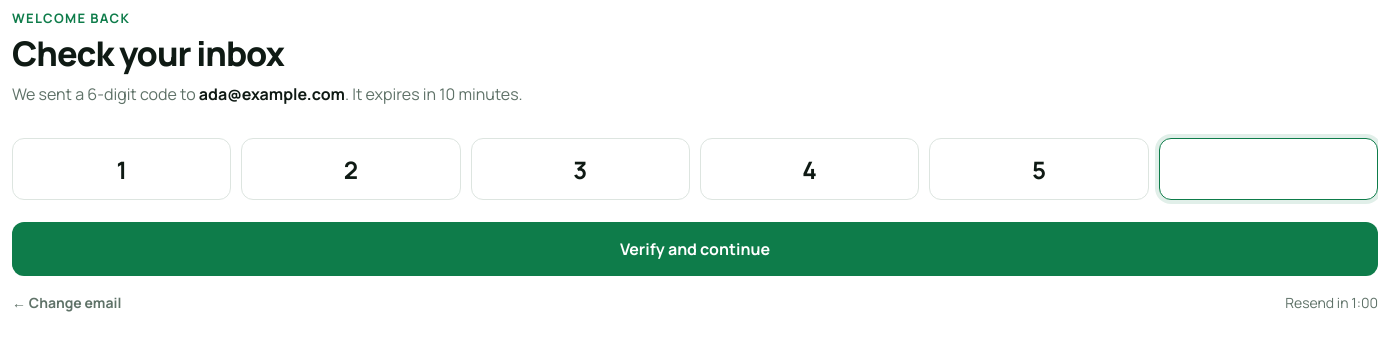
it: CodeForm › requires all six digits before verifying
The image size is (1390, 355).
Click the button "Verify and continue" at point(695, 249), box top-left (12, 222), bottom-right (1378, 276)
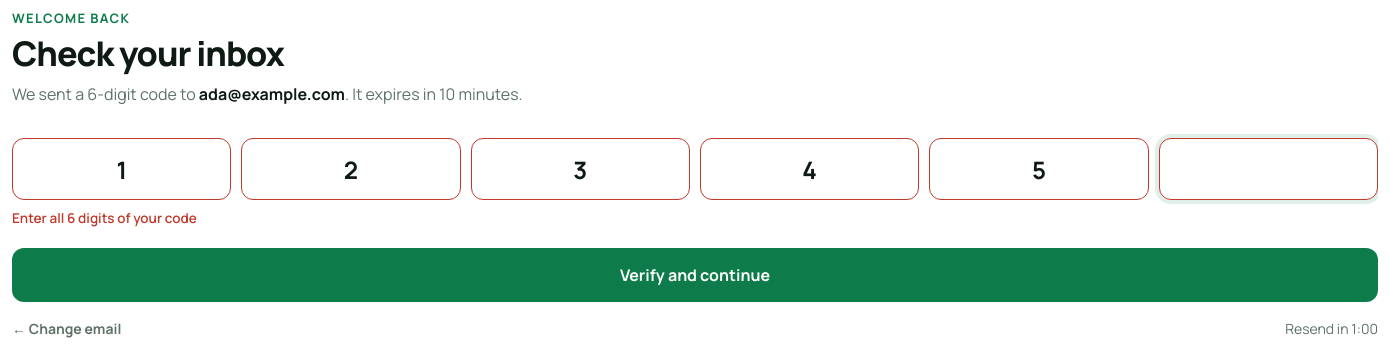
Expected: the message reads "Enter all 6 digits of your code", top-left (12, 209), bottom-right (197, 227)
